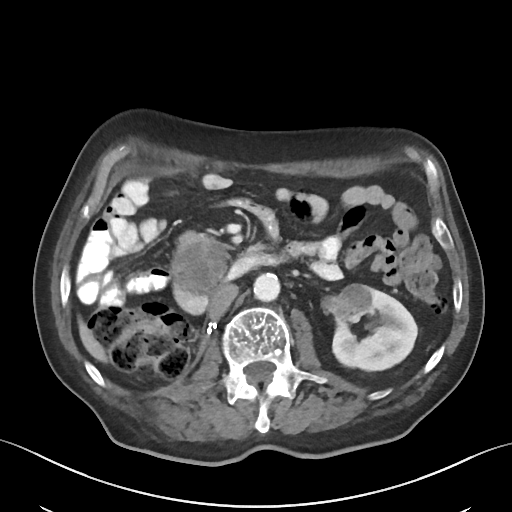Lesion: (322, 286, 374, 322)
